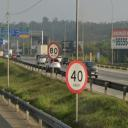speed_limit_40: (66, 60, 87, 93)
speed_limit_80: (48, 42, 60, 60)
